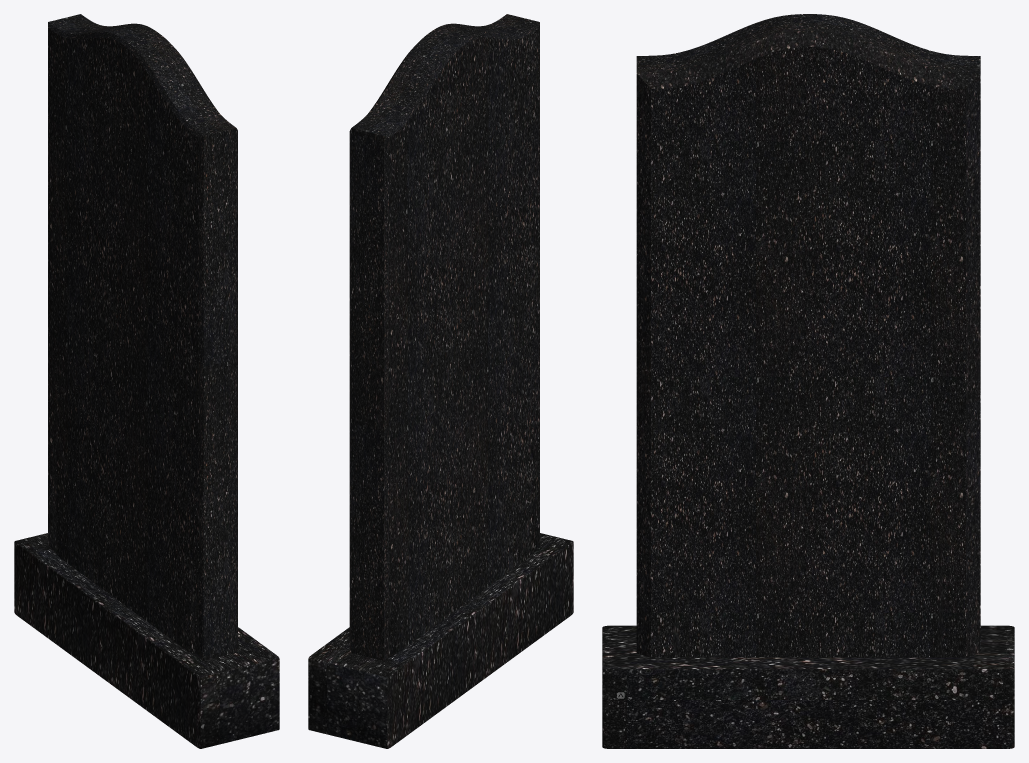
Rendered from Плечик [granite_1_standard] (100).glb.
The picture shows the model from 3 angles, left to right: view 1: azimuth 30°, elevation 25°; view 2: azimuth 150°, elevation 25°; view 3: azimuth 270°, elevation 25°; orthographic projection. The views are drawn at different scales.
Parts seen in each view (by area): view 1: Cube.063, Куб.093; view 2: Cube.063, Куб.093; view 3: Cube.063, Куб.093.
Part boxes in pixels (box(x1,y1,x2,y2)): Cube.063: box(48, 14, 237, 660); Куб.093: box(14, 533, 279, 748); Cube.063: box(349, 14, 539, 660); Куб.093: box(308, 533, 573, 748); Cube.063: box(636, 14, 980, 657); Куб.093: box(602, 625, 1014, 748).
Size of the model in its own units: 0.15 by 1.13 by 0.6.
Materials: 2 (2 with a texture image).
